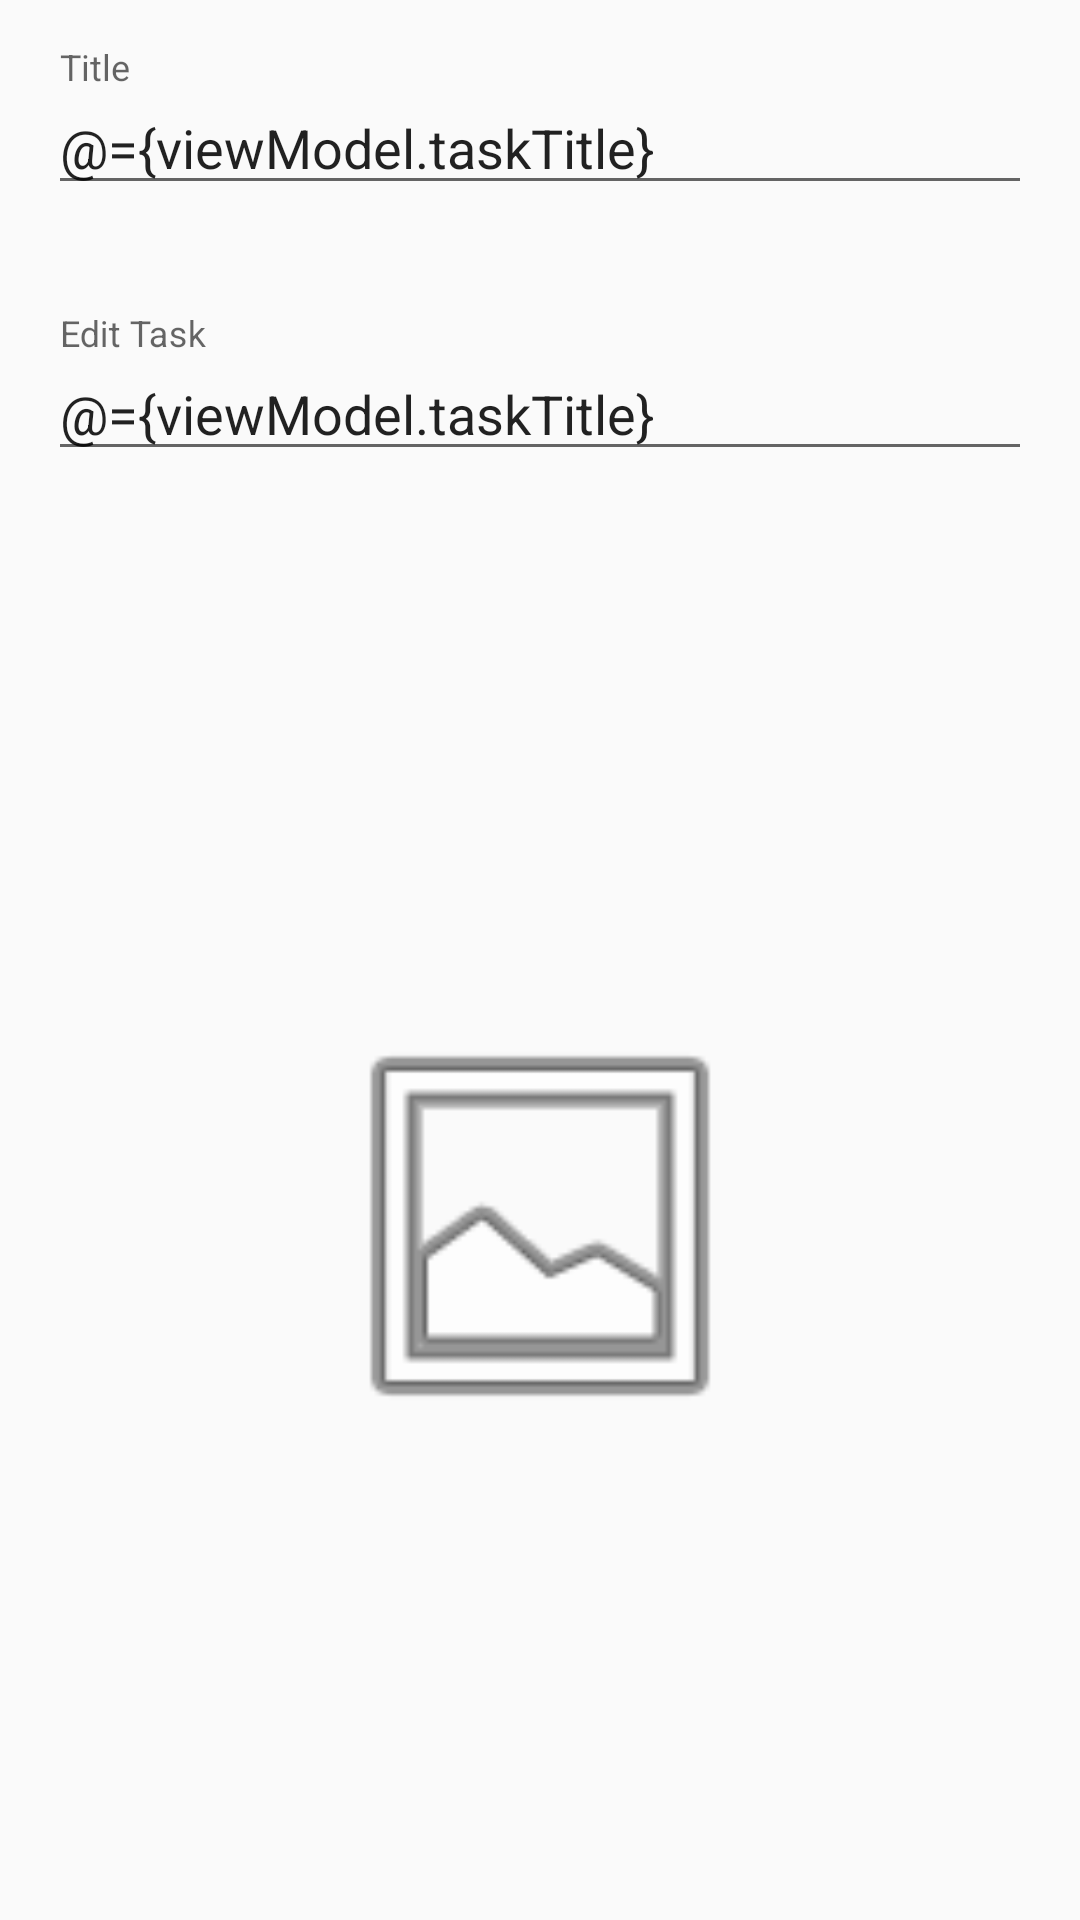

Where to tap for icons on this 1080*1920 app screen, as (x=x, y=y):
gallery: (x=540, y=1226)
